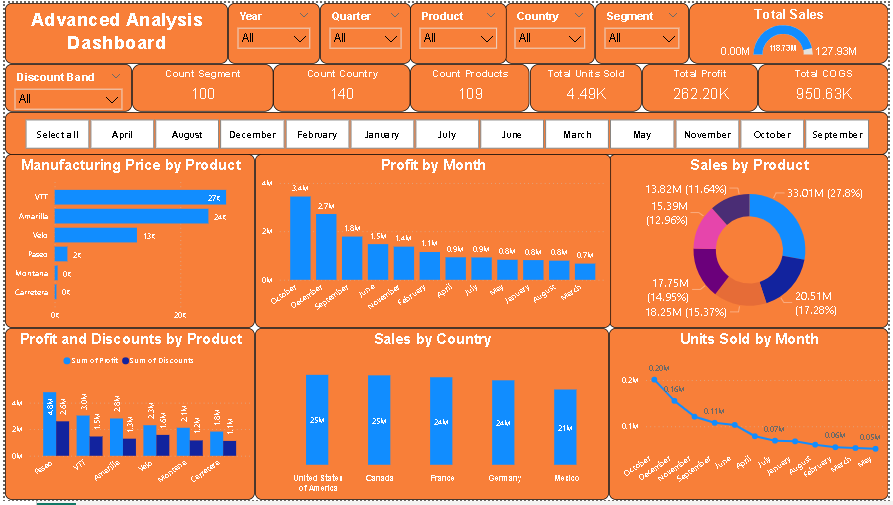

Layout of this report page (visuals, bound fields, positions):
{"tool":"powerbi","page":{"name":"Task 3","canvas":[1280,720],"ordinal":0},"visuals":[{"type":"textbox","box":[0,0,322.8,87.8],"z":0},{"type":"slicer","fields":{"Values":["financials.Year"]},"box":[322.8,0,133.1,87.8],"z":1000},{"type":"slicer","fields":{"Values":["financials.Quarter1"]},"box":[455.9,0,131.7,87.8],"z":2000},{"type":"slicer","fields":{"Values":["financials.Month Name"]},"box":[0,157.3,1280,62.1],"z":3000},{"type":"kpi","title":"Total COGS","fields":{"TrendLine":["financials.COGS"],"Indicator":["Sum(financials.COGS)"]},"box":[1091,87.8,189,69.5],"z":4000},{"type":"kpi","title":"Total Profit","fields":{"Indicator":["Sum(financials.Profit)"],"TrendLine":["financials.Profit"]},"box":[922.8,87.8,168.2,69.5],"z":5000},{"type":"kpi","title":"Total Units Sold","fields":{"Indicator":["Sum(financials.Units Sold)"],"TrendLine":["financials.Units Sold"]},"box":[760.7,87.8,162.1,69.5],"z":6000},{"type":"kpi","title":"Count Products","fields":{"TrendLine":["financials.Product"],"Indicator":["CountNonNull(financials.Product)"]},"box":[587.6,87.8,173.1,69.5],"z":7000},{"type":"slicer","fields":{"Values":["financials.Country"]},"box":[725,0,130.3,87.8],"z":8000},{"type":"slicer","fields":{"Values":["financials.Product"]},"box":[587.6,0,140.2,87.8],"z":9000},{"type":"slicer","fields":{"Values":["financials.Segment"]},"box":[855.2,0,135.9,87.8],"z":10000},{"type":"lineChart","title":"Units Sold by Month","fields":{"Category":["financials.Month Name"],"Y":["Sum(financials.Units Sold)"]},"box":[875,471.5,405,249.2],"z":11000},{"type":"donutChart","title":"Sales by Product","fields":{"Category":["financials.Product"],"Y":["Sum(financials. Sales)"]},"box":[875,219.5,405,252],"z":12000},{"type":"barChart","title":"Manufacturing Price by Product","fields":{"Category":["financials.Product"],"Y":["Sum(financials.Manufacturing Price)"]},"box":[0,219.5,362.5,252],"z":13000},{"type":"columnChart","title":"Profit by Month","fields":{"Category":["financials.Month Name"],"Y":["Sum(financials.Profit)"]},"box":[362.1,219.4,515.7,252.3],"z":14000},{"type":"clusteredColumnChart","title":"Profit and Discounts by Product","fields":{"Category":["financials.Product"],"Y":["Sum(financials.Profit)","Sum(financials.Discounts)"]},"box":[0,471.5,362.5,249.2],"z":15000},{"type":"gauge","title":"Total Sales ","fields":{"Y":["Sum(financials. Sales)"],"MaxValue":["Sum(financials.Gross Sales)"]},"box":[991.2,0,288.8,87.8],"z":16000},{"type":"slicer","fields":{"Values":["financials.Discount Band"]},"box":[0,87.8,184.1,69.4],"z":17000},{"type":"kpi","title":"Count Country","fields":{"Indicator":["CountNonNull(financials.Country)"],"TrendLine":["financials.Country"]},"box":[388.9,87.8,198.7,69.5],"z":18000},{"type":"kpi","title":"Count Segment","fields":{"TrendLine":["financials.Segment"],"Indicator":["CountNonNull(financials.Segment)"]},"box":[184.1,87.8,204.8,69.5],"z":19000},{"type":"ribbonChart","title":"Sales by Country","fields":{"Category":["financials.Country"],"Y":["Sum(financials. Sales)"]},"box":[362.5,471.5,512.6,249.2],"z":20000}]}

Visuals, with their boxes in screenshot pixels (x1, y1, x2, y2), scaled from the page's 1280x720 canvas onto the 893x505 screenshot:
textbox: bbox=[0, 0, 225, 62]
slicer - financials.Year: bbox=[225, 0, 318, 62]
slicer - financials.Quarter1: bbox=[318, 0, 410, 62]
slicer - financials.Month Name: bbox=[0, 110, 892, 154]
"Total COGS" kpi: bbox=[761, 62, 892, 110]
"Total Profit" kpi: bbox=[644, 62, 761, 110]
"Total Units Sold" kpi: bbox=[531, 62, 644, 110]
"Count Products" kpi: bbox=[410, 62, 531, 110]
slicer - financials.Country: bbox=[506, 0, 597, 62]
slicer - financials.Product: bbox=[410, 0, 508, 62]
slicer - financials.Segment: bbox=[597, 0, 691, 62]
"Units Sold by Month" lineChart: bbox=[610, 331, 892, 504]
"Sales by Product" donutChart: bbox=[610, 154, 892, 331]
"Manufacturing Price by Product" barChart: bbox=[0, 154, 253, 331]
"Profit by Month" columnChart: bbox=[253, 154, 612, 331]
"Profit and Discounts by Product" clusteredColumnChart: bbox=[0, 331, 253, 504]
"Total Sales " gauge: bbox=[692, 0, 892, 62]
slicer - financials.Discount Band: bbox=[0, 62, 128, 110]
"Count Country" kpi: bbox=[271, 62, 410, 110]
"Count Segment" kpi: bbox=[128, 62, 271, 110]
"Sales by Country" ribbonChart: bbox=[253, 331, 611, 504]
